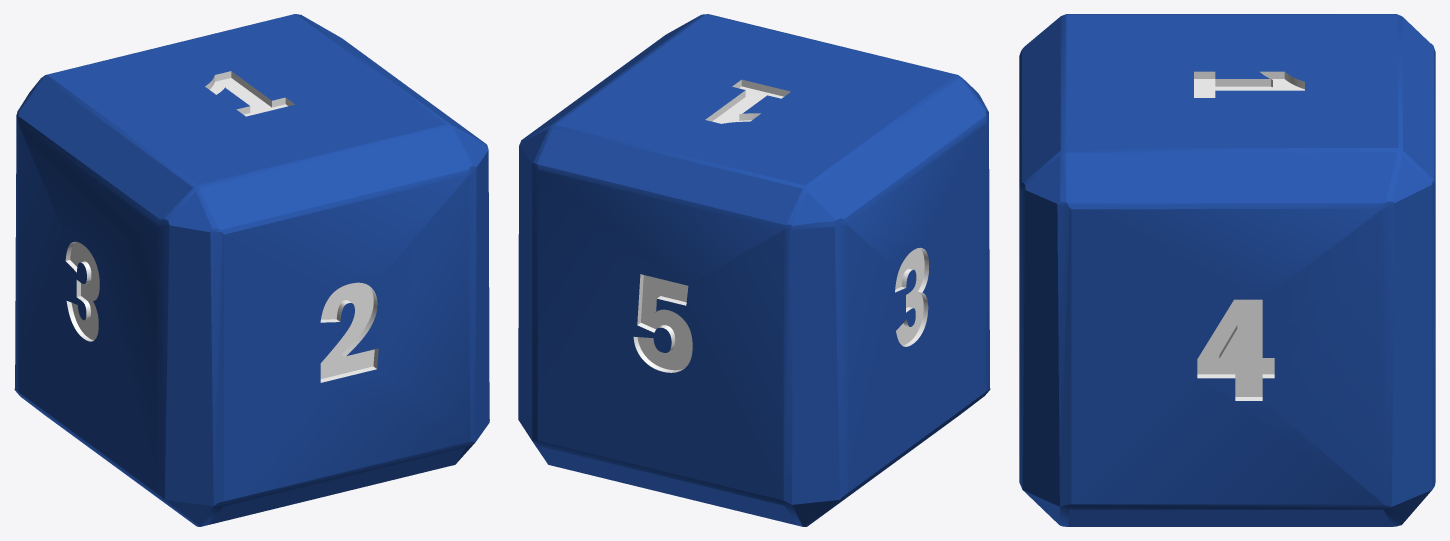
File: custom_die.glb
3 views of the same model, side by side, from view 1: azimuth 30°, elevation 25°; view 2: azimuth 150°, elevation 25°; view 3: azimuth 270°, elevation 25° (orthographic). The views are drawn at different scales.
Parts seen in each view (by area): view 1: Cube; view 2: Cube; view 3: Cube.
Boxes of the visible parts, bbox=[...] form: Cube: bbox=[14, 14, 489, 526]; Cube: bbox=[518, 14, 990, 526]; Cube: bbox=[1019, 14, 1435, 526].
Bounding box in the file's own units: 2 × 2 × 2.
